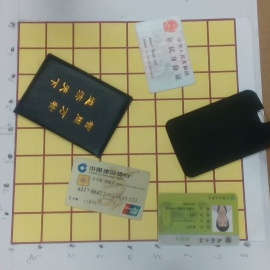card: (64, 157, 150, 221), (155, 189, 243, 250), (134, 15, 197, 93)
wallet: (12, 52, 132, 159), (164, 89, 270, 179)
